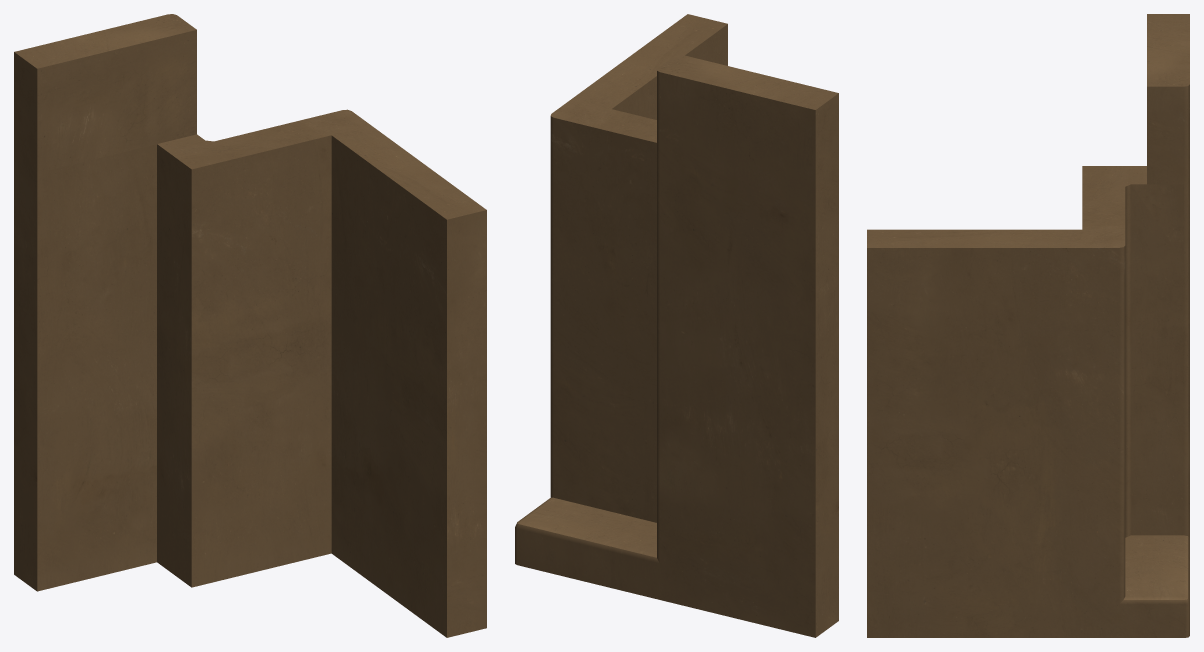
File: SM_Building02WallRoof03_LR.fbx
The picture shows the model from 3 angles, left to right: view 1: azimuth 30°, elevation 25°; view 2: azimuth 150°, elevation 25°; view 3: azimuth 270°, elevation 25°; orthographic projection. The views are drawn at different scales.
Parts seen in each view (by area): view 1: SM_Building02WallRoof03_LR_LOD0; view 2: SM_Building02WallRoof03_LR_LOD0; view 3: SM_Building02WallRoof03_LR_LOD0.
Part boxes in pixels (box(x1,y1,x2,y2)): SM_Building02WallRoof03_LR_LOD0: box(14, 14, 486, 637); SM_Building02WallRoof03_LR_LOD0: box(515, 14, 838, 637); SM_Building02WallRoof03_LR_LOD0: box(867, 14, 1189, 637).
Bounding box in the file's own units: 150 × 150 × 250.
Materials: 1 (1 with a texture image).
